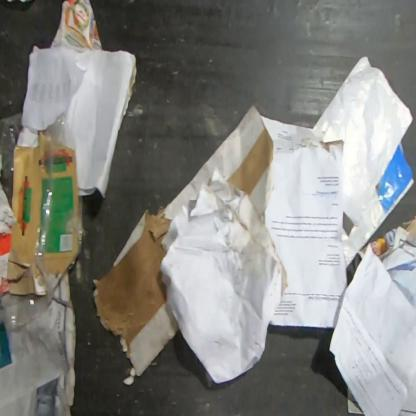cardboard: (92, 102, 274, 387), (30, 271, 77, 415)
soft_plastic: (0, 110, 89, 334)
